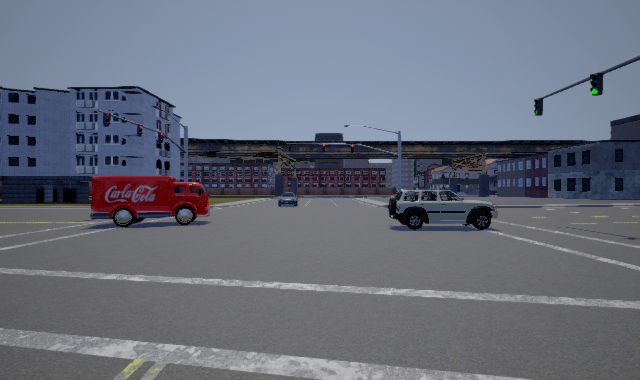traffic_light: (590, 72, 603, 96), (534, 98, 543, 116), (103, 113, 111, 127), (137, 124, 143, 137), (158, 132, 164, 143), (351, 144, 354, 153), (322, 144, 325, 152), (289, 144, 291, 152)
vehicle: (90, 176, 210, 227), (388, 189, 498, 230), (278, 192, 298, 207)
